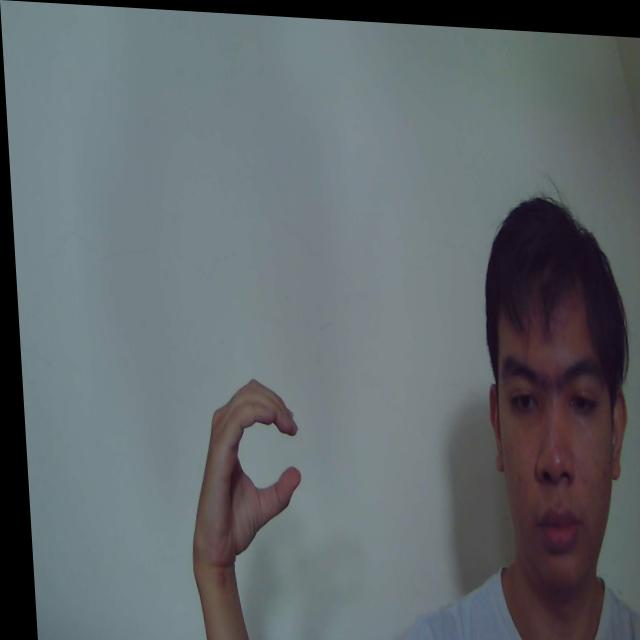C: (178, 371, 303, 562)
